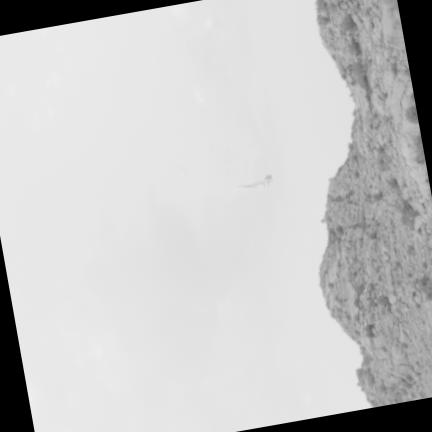Shahed: (236, 174, 272, 191)
